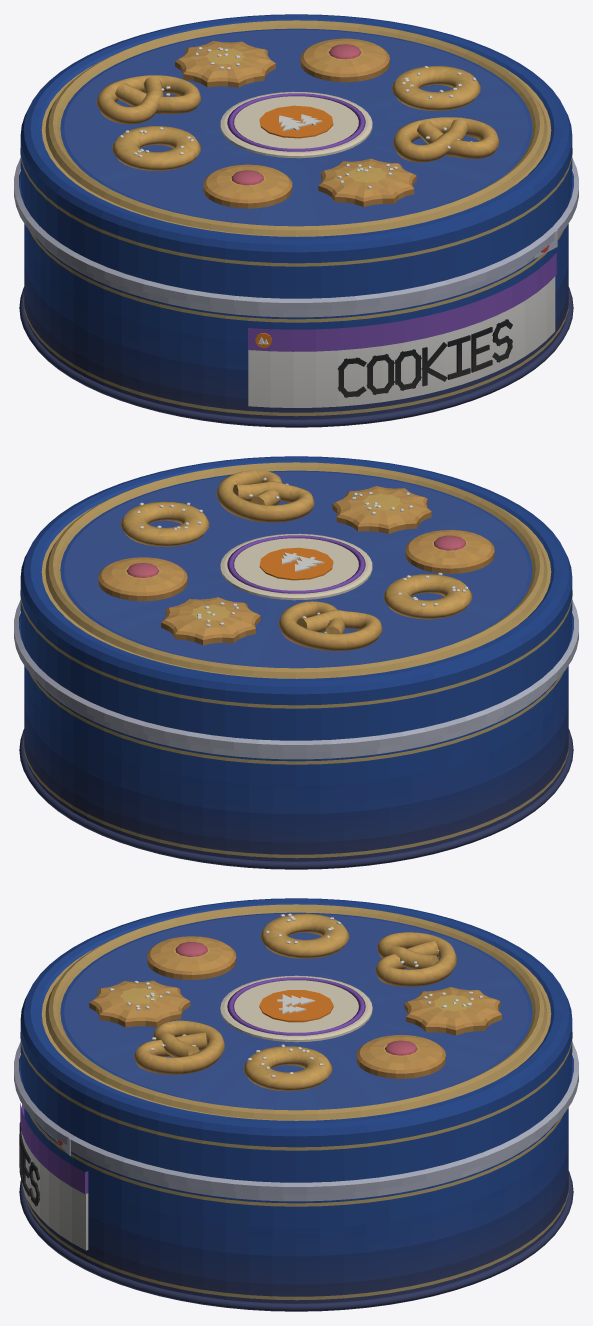
Rendered from gs-cookies.glb.
3 views of the same model, one above another, from view 1: azimuth 30°, elevation 25°; view 2: azimuth 150°, elevation 25°; view 3: azimuth 270°, elevation 25° (orthographic).
Parts seen in each view (by area): view 1: gs_cookies; view 2: gs_cookies; view 3: gs_cookies.
Boxes of the visible parts, bbox=[...] form: gs_cookies: bbox=[14, 14, 578, 427]; gs_cookies: bbox=[14, 456, 578, 869]; gs_cookies: bbox=[14, 898, 578, 1311].
Bounding box in the file's own units: 0.1819 × 0.0731 × 0.1819.
